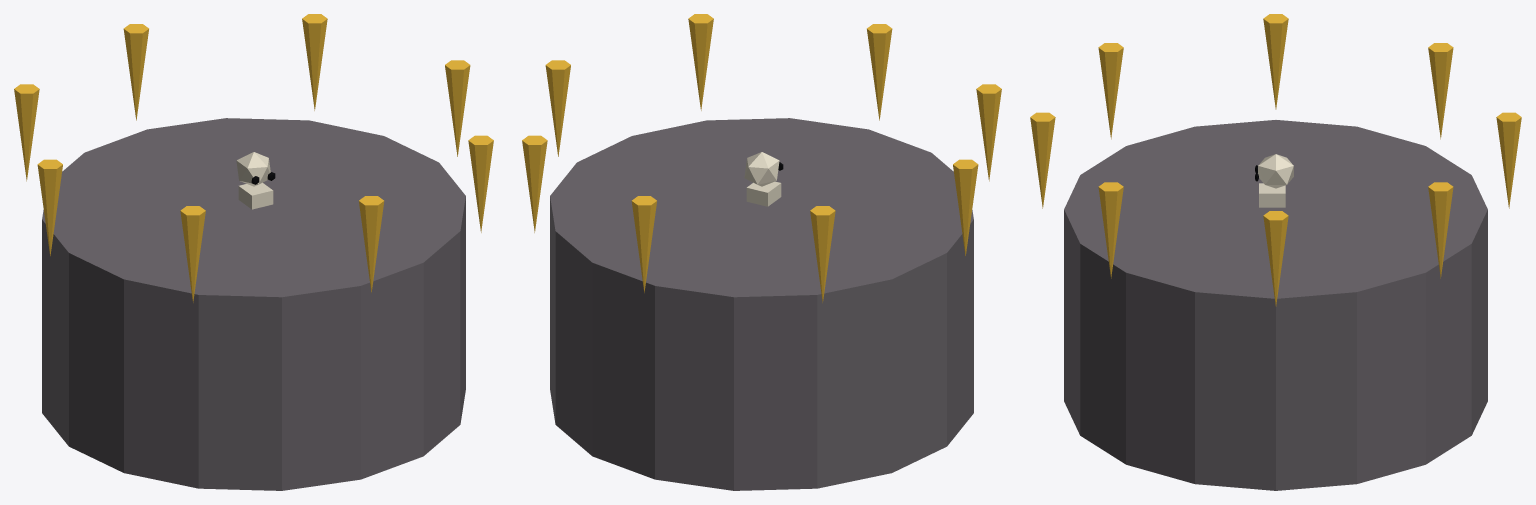
The model's file is Bld_OR_Cistern_02.glb.
3 renders of one model, left to right at view 1: azimuth 30°, elevation 25°; view 2: azimuth 150°, elevation 25°; view 3: azimuth 270°, elevation 25°, orthographic.
Visible parts, largest first — view 1: Bld_OR_Cistern_02; view 2: Bld_OR_Cistern_02; view 3: Bld_OR_Cistern_02.
Part boxes in pixels (x1,y1,x2,y2): Bld_OR_Cistern_02: (14,14,493,490); Bld_OR_Cistern_02: (522,14,1001,490); Bld_OR_Cistern_02: (1030,14,1521,490).
Bounding box in the file's own units: 11.52 × 7.4 × 11.6.
